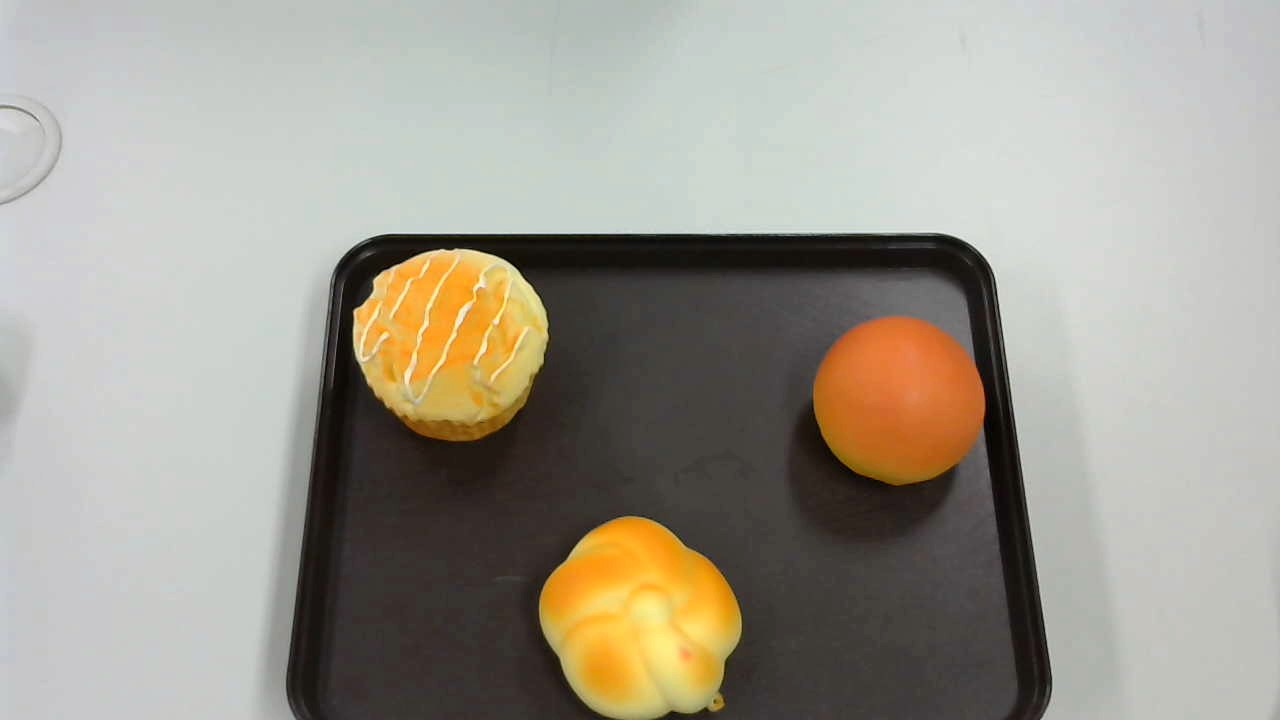bun: (812, 314, 987, 487)
cupcake: (354, 248, 550, 438)
twist bread: (540, 514, 742, 720)
